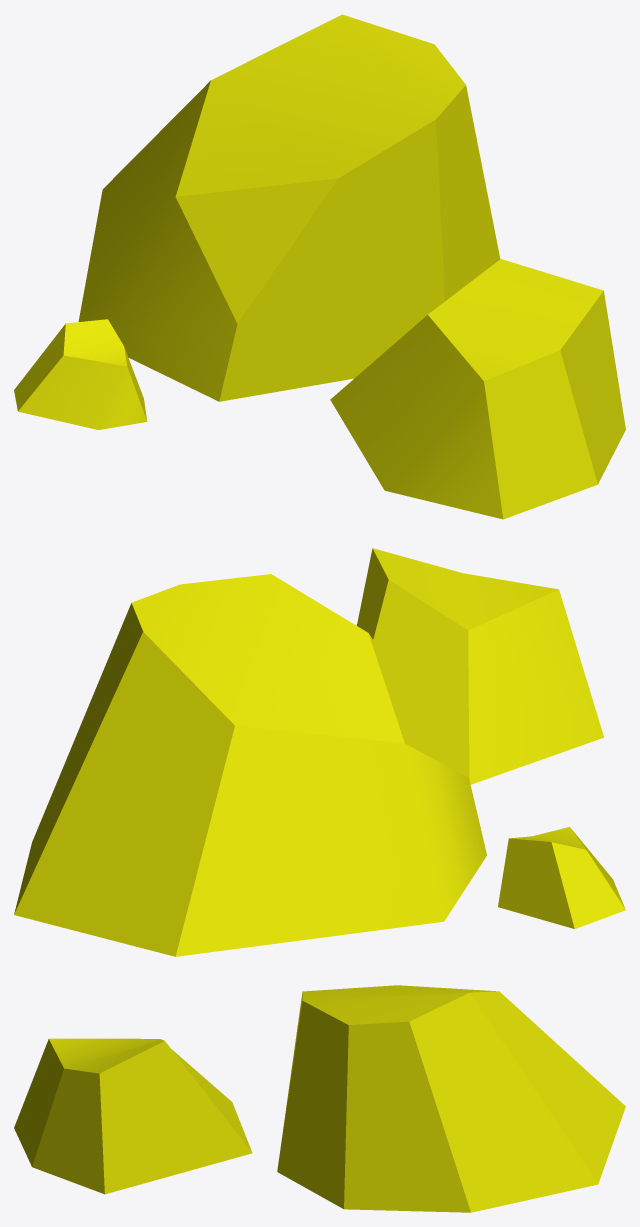
The picture shows the model from 3 angles, top to bottom: view 1: azimuth 30°, elevation 25°; view 2: azimuth 150°, elevation 25°; view 3: azimuth 270°, elevation 25°; orthographic projection. The views are drawn at different scales.
Visible parts, largest first — view 1: stonedecor; view 2: stonedecor; view 3: stonedecor.
Boxes of the visible parts, <box> form: stonedecor: <box>14,14,625,519</box>; stonedecor: <box>14,548,625,956</box>; stonedecor: <box>14,985,625,1212</box>.
Size of the model in its own units: 1.08 by 0.4981 by 1.47.
Materials: 1 (1 with a texture image).
